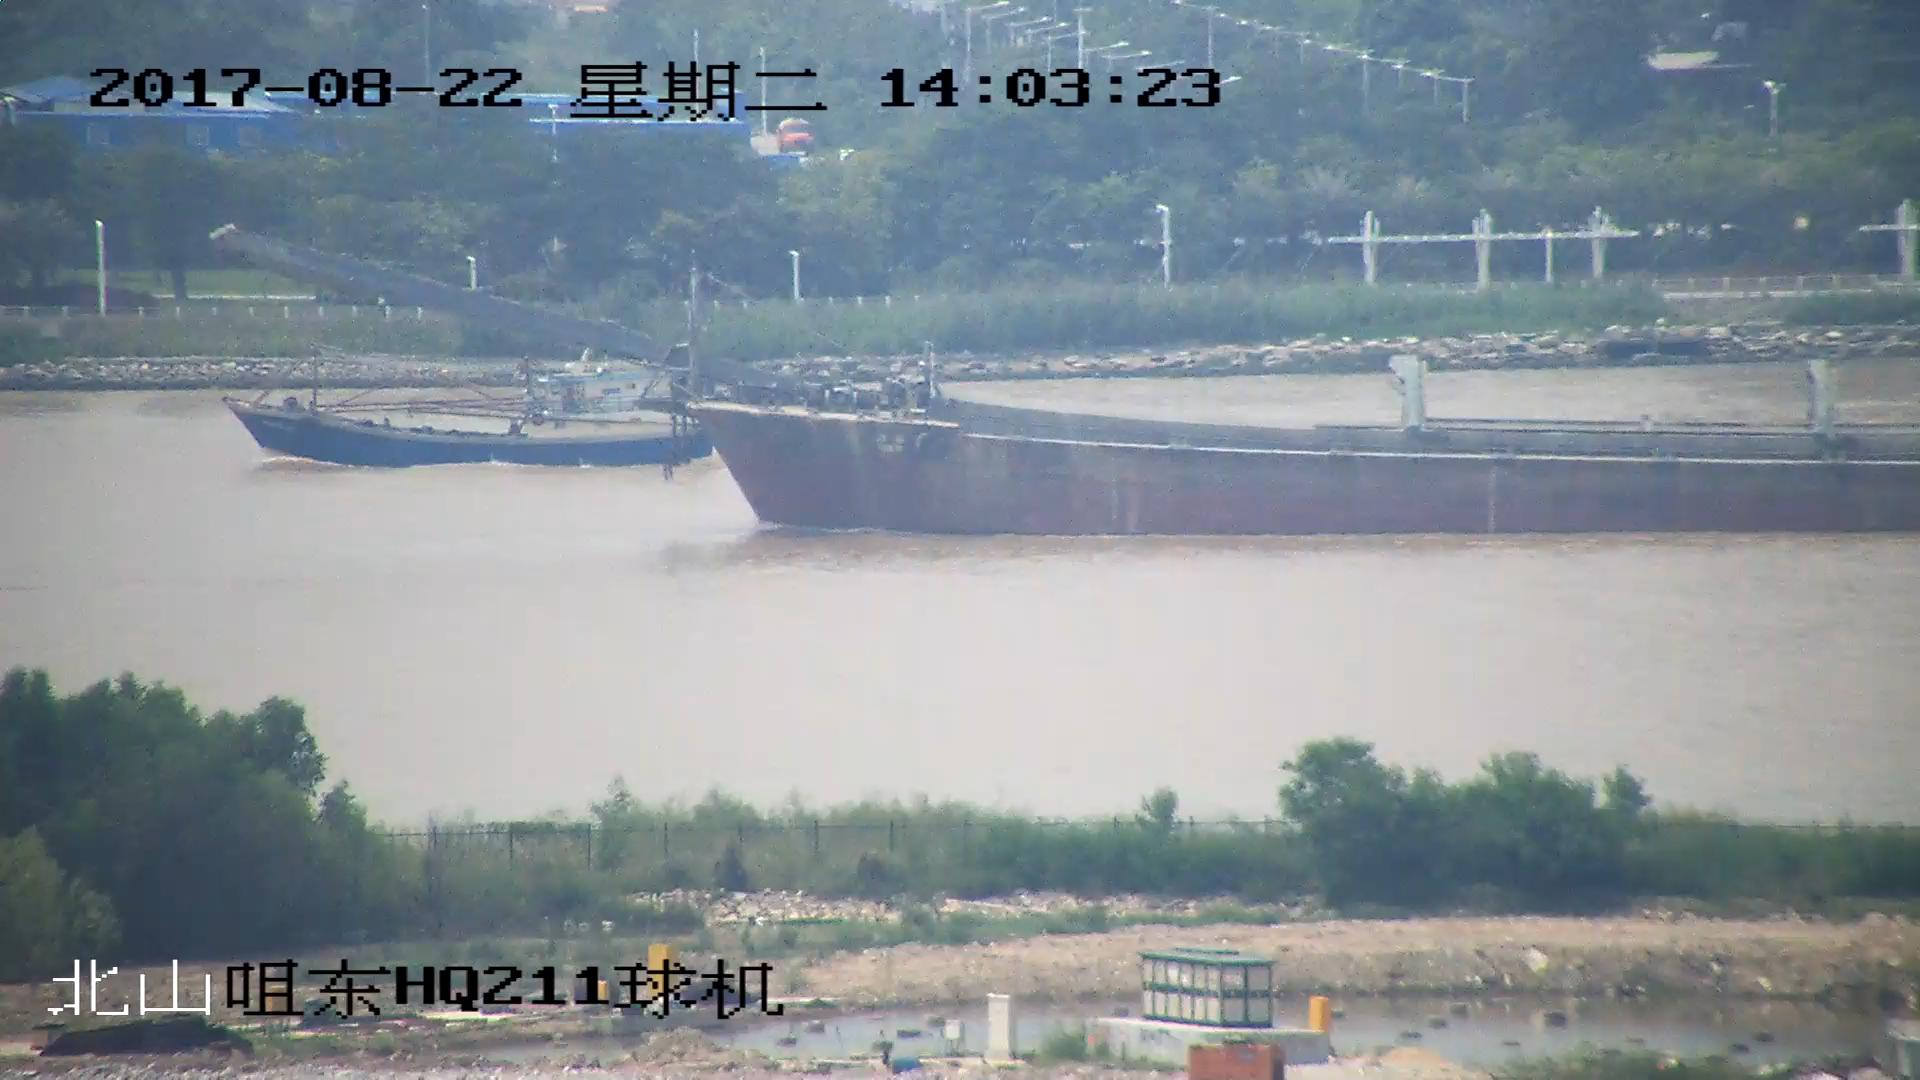bulk cargo carrier: (218, 227, 1920, 532)
fishing boat: (227, 348, 706, 465)
